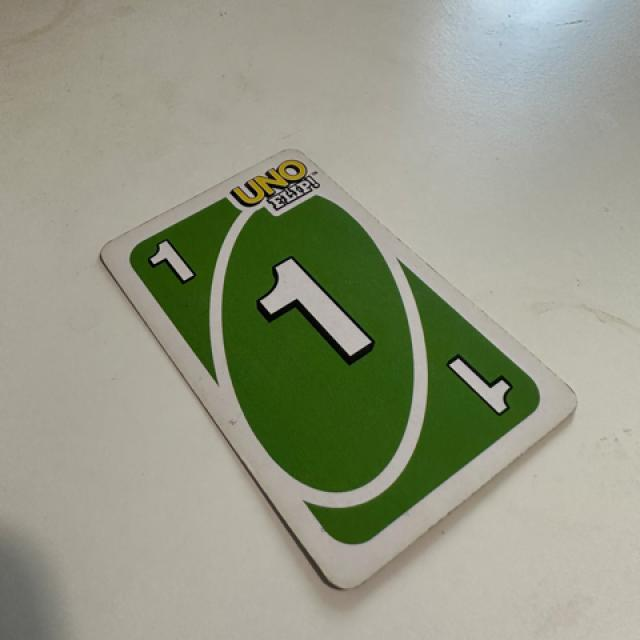lgreen-1: (132, 233, 209, 296)
